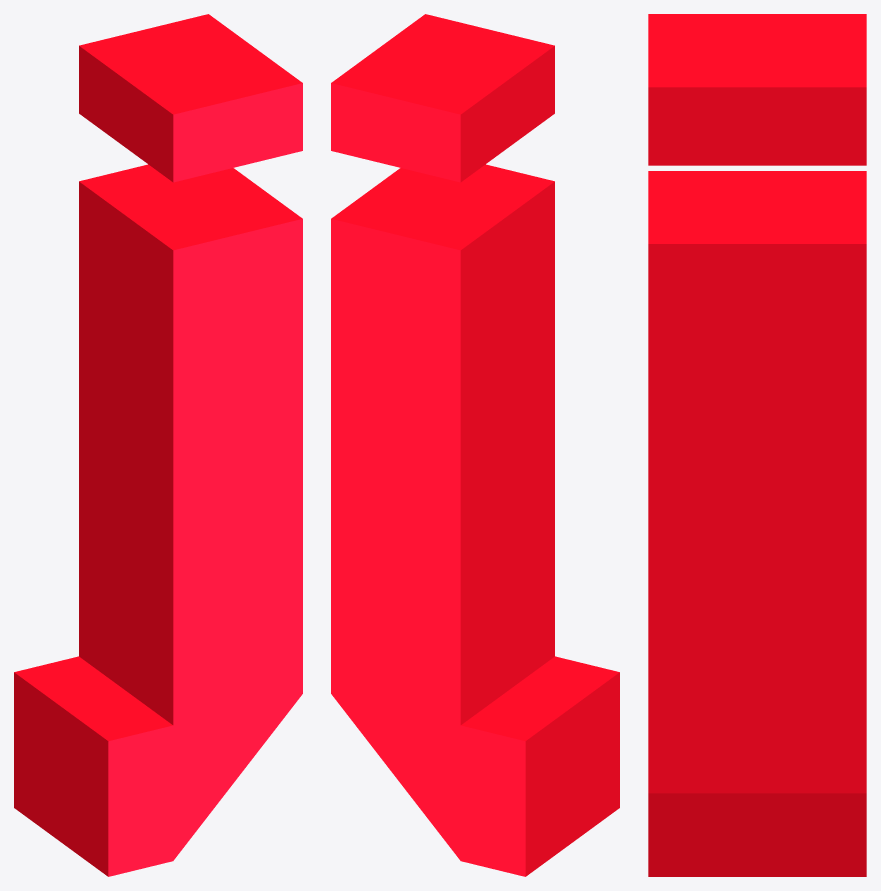
The model's file is cd8aaafa-2ba0-497d-8bac-96eb9e3abd05.glb.
3 views of the same model, side by side, from view 1: azimuth 30°, elevation 25°; view 2: azimuth 150°, elevation 25°; view 3: azimuth 270°, elevation 25° (orthographic). The views are drawn at different scales.
Parts seen in each view (by area): view 1: j_DeltaBlock_Red; view 2: j_DeltaBlock_Red; view 3: j_DeltaBlock_Red.
Part boxes in pixels (box(x1,y1,x2,y2)): j_DeltaBlock_Red: box(14, 14, 302, 876); j_DeltaBlock_Red: box(331, 14, 619, 876); j_DeltaBlock_Red: box(648, 14, 866, 876).
Size of what is drawn, in the model's own units: 0.0536 by 0.1964 by 0.045.
Materials: 2 (2 with a texture image).
